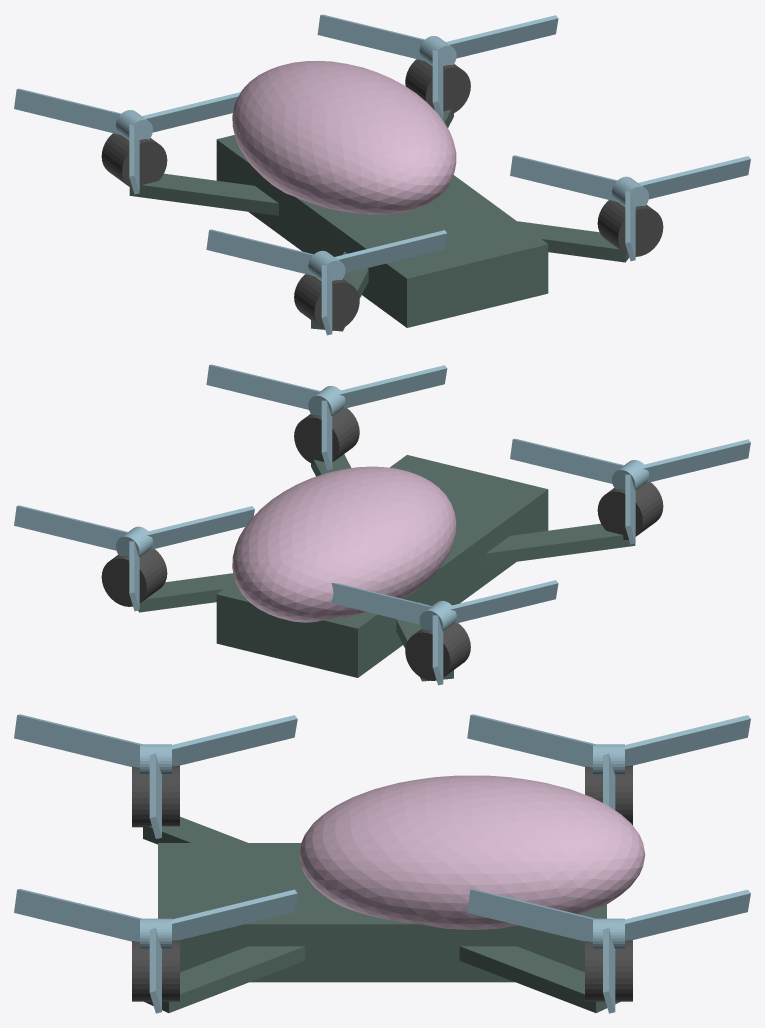
File: D-Rock.glb
The picture shows the model from 3 angles, top to bottom: view 1: azimuth 30°, elevation 25°; view 2: azimuth 150°, elevation 25°; view 3: azimuth 270°, elevation 25°; orthographic projection. The views are drawn at different scales.
Visible parts, largest first — view 1: canopy, frame_body, prop_2, prop_1, prop_0, prop_3, arm_3, motor_0, motor_2, motor_3, arm_0, motor_1 (+1 smaller); view 2: canopy, frame_body, prop_0, prop_2, prop_1, prop_3, arm_2, motor_1, motor_3, motor_2, motor_0, arm_1; view 3: canopy, frame_body, prop_1, prop_0, prop_2, prop_3, arm_1, arm_0, motor_1, motor_0, motor_2, arm_2 (+1 smaller).
Boxes of the visible parts, bbox=[...] form: canopy: bbox=[232, 60, 456, 214]; frame_body: bbox=[216, 135, 548, 327]; prop_2: bbox=[206, 229, 447, 335]; prop_1: bbox=[317, 14, 558, 119]; prop_0: bbox=[510, 155, 750, 261]; prop_3: bbox=[14, 88, 240, 194]; arm_3: bbox=[129, 173, 278, 215]; motor_0: bbox=[597, 200, 663, 256]; motor_2: bbox=[294, 274, 359, 330]; motor_3: bbox=[101, 133, 167, 189]; arm_0: bbox=[517, 221, 629, 262]; motor_1: bbox=[405, 59, 470, 114]; canopy: bbox=[232, 466, 456, 622]; frame_body: bbox=[216, 455, 548, 677]; prop_0: bbox=[206, 364, 447, 470]; prop_2: bbox=[510, 438, 750, 544]; prop_1: bbox=[14, 505, 254, 611]; prop_3: bbox=[331, 580, 558, 685]; arm_2: bbox=[486, 523, 635, 565]; motor_1: bbox=[101, 549, 167, 606]; motor_3: bbox=[405, 623, 470, 680]; motor_2: bbox=[597, 482, 663, 539]; motor_0: bbox=[294, 408, 359, 464]; arm_1: bbox=[138, 573, 234, 612]; canopy: bbox=[299, 775, 645, 929]; frame_body: bbox=[158, 843, 606, 982]; prop_1: bbox=[467, 889, 750, 1013]; prop_0: bbox=[14, 889, 297, 1013]; prop_2: bbox=[14, 714, 297, 838]; prop_3: bbox=[467, 714, 750, 809]; arm_1: bbox=[459, 946, 620, 1012]; arm_0: bbox=[144, 946, 305, 1012]; motor_1: bbox=[585, 940, 632, 1001]; motor_0: bbox=[132, 940, 179, 1001]; motor_2: bbox=[132, 765, 179, 827]; arm_2: bbox=[143, 816, 247, 844].
Size of the model in its own units: 0.2055 by 0.0516 by 0.2299.
